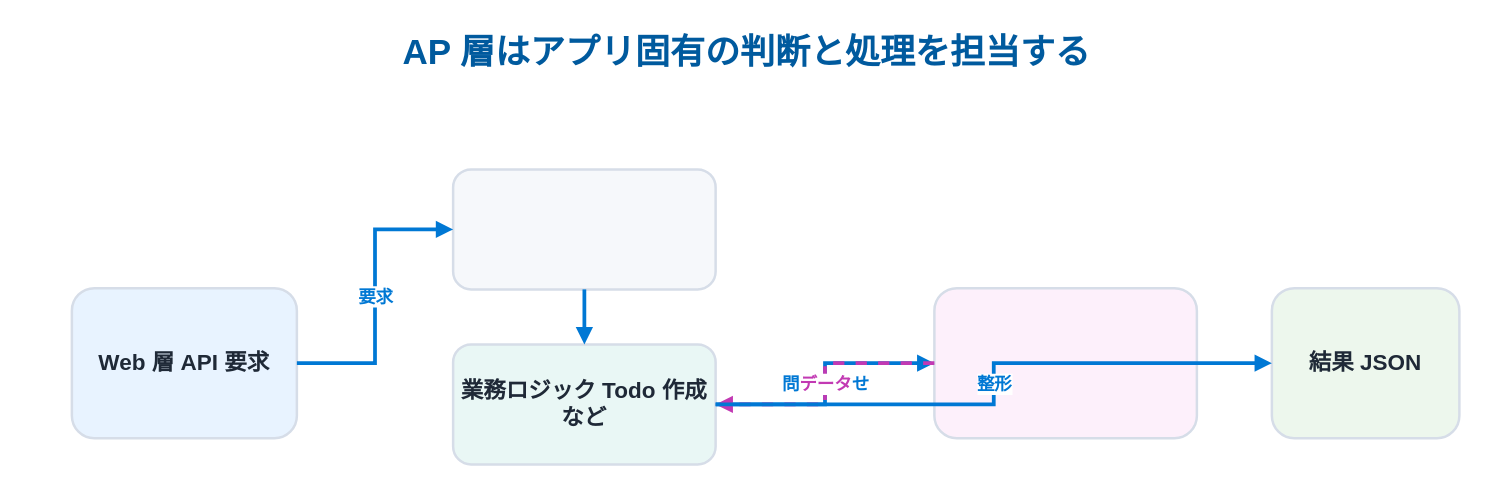
This 1493x486 diagram has some shape labels left out. The box of each missing label's shape, as (x1, y1, x2, y2) in pixels:
DB 層 必要なデータ: (932, 286, 1198, 439)
入力チェック 形式・権限: (451, 168, 716, 290)
